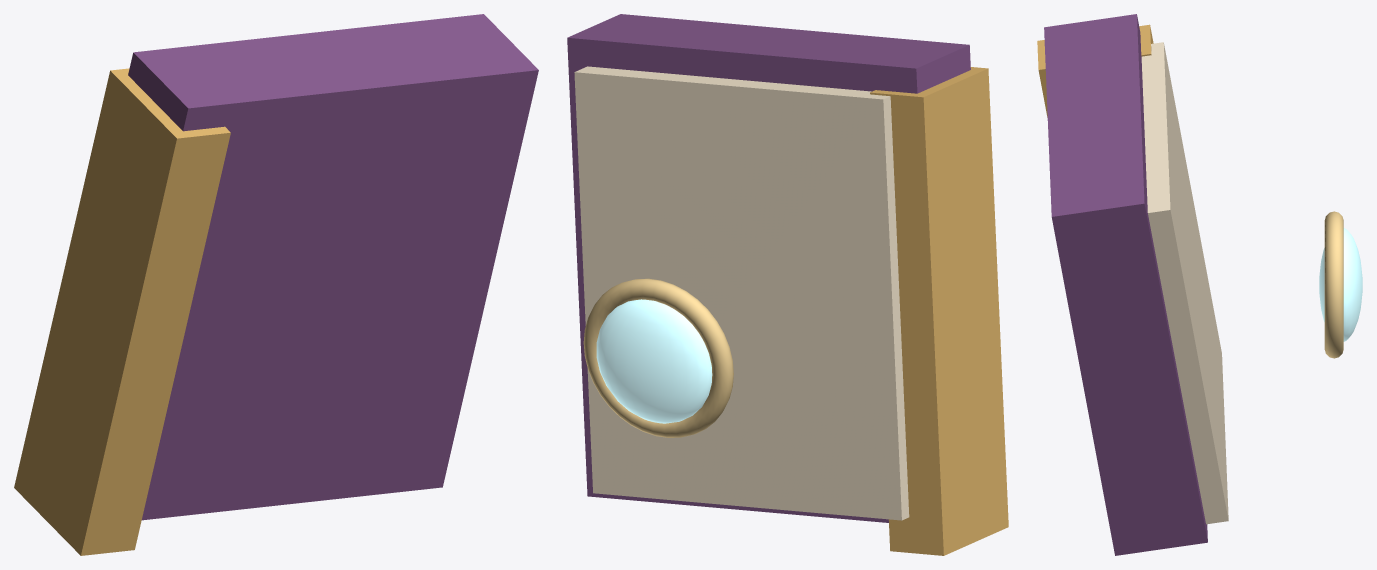
Rendered from book.glb.
The picture shows the model from 3 angles, left to right: view 1: azimuth 30°, elevation 25°; view 2: azimuth 150°, elevation 25°; view 3: azimuth 270°, elevation 25°; orthographic projection. The views are drawn at different scales.
Visible parts, largest first — view 1: HardCover, Spine; view 2: PageBlock, Spine, HardCover, EnamelGem, GoldBezel; view 3: HardCover, PageBlock, GoldBezel, EnamelGem, Spine.
Part boxes in pixels (box(x1,y1,x2,y2)): HardCover: box(128, 14, 538, 520); Spine: box(14, 68, 230, 555); PageBlock: box(574, 66, 909, 520); Spine: box(870, 67, 1008, 555); HardCover: box(567, 14, 970, 522); EnamelGem: box(596, 299, 712, 423); GoldBezel: box(583, 278, 733, 437); HardCover: box(1044, 14, 1207, 555); PageBlock: box(1141, 42, 1228, 524); GoldBezel: box(1324, 211, 1343, 358); EnamelGem: box(1319, 228, 1362, 341); Spine: box(1037, 24, 1153, 117).
Size of the model in its own units: 0.0622 by 0.069 by 0.0484.
